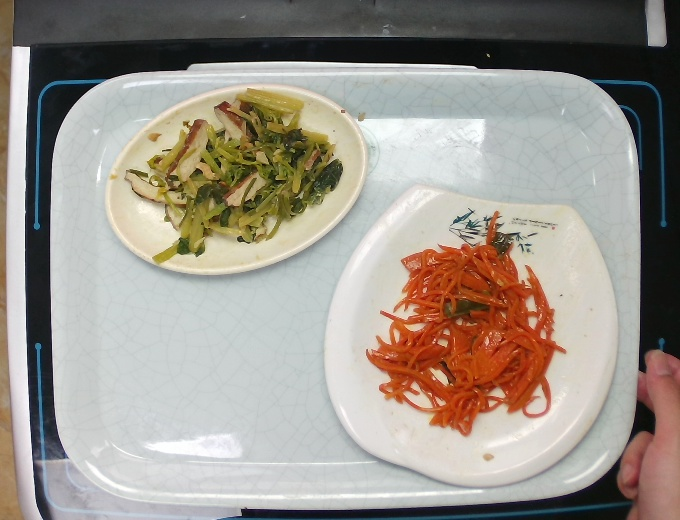JYsf-Mian_Pan: (311, 180, 627, 491)
JYsf-Tuo_Yuan_Wan: (94, 79, 373, 284)
